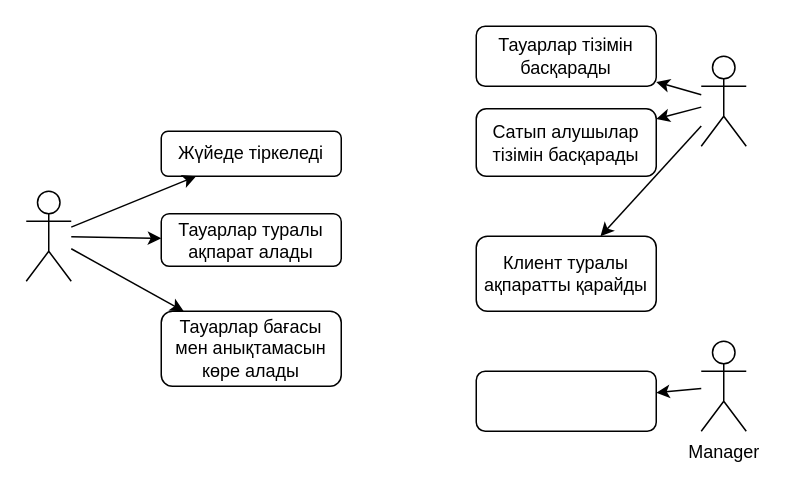
Image size: 785x489. Some labels were removed from this diagram. Here are the shapes that lost their labels. From the top down, the centre of each, then its label:
the point at 723,100: Admin
the point at 48,235: Client
the point at 565,400: Клиент заказын қарайды
